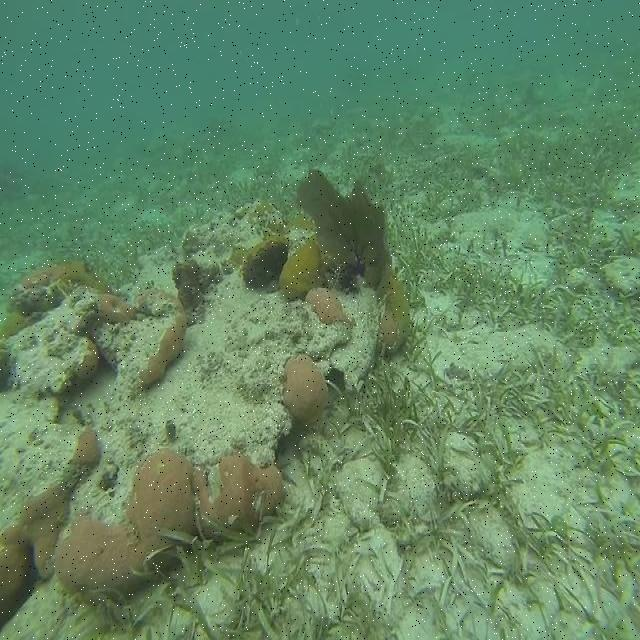aquatic plants: (296, 168, 387, 295)
sea-floor: (0, 198, 409, 631)
